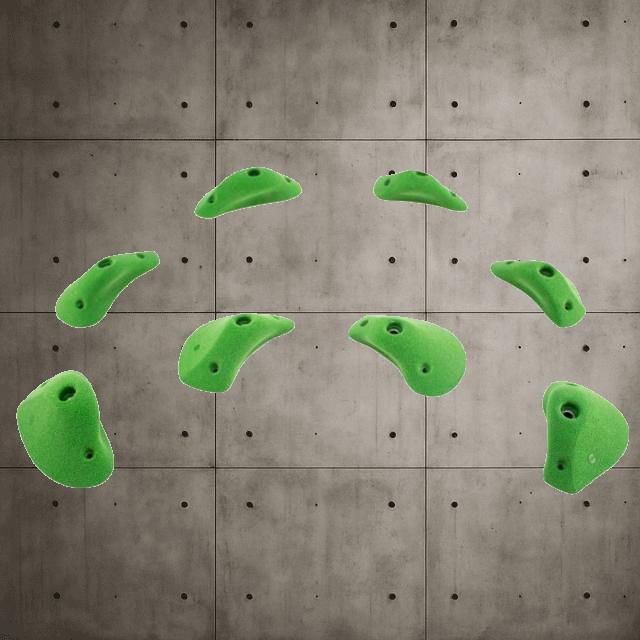Jug: (15, 368, 114, 488), (541, 380, 629, 494), (348, 313, 467, 397), (178, 312, 294, 392), (55, 250, 159, 326), (490, 258, 586, 328), (194, 166, 302, 218), (373, 168, 467, 212)
